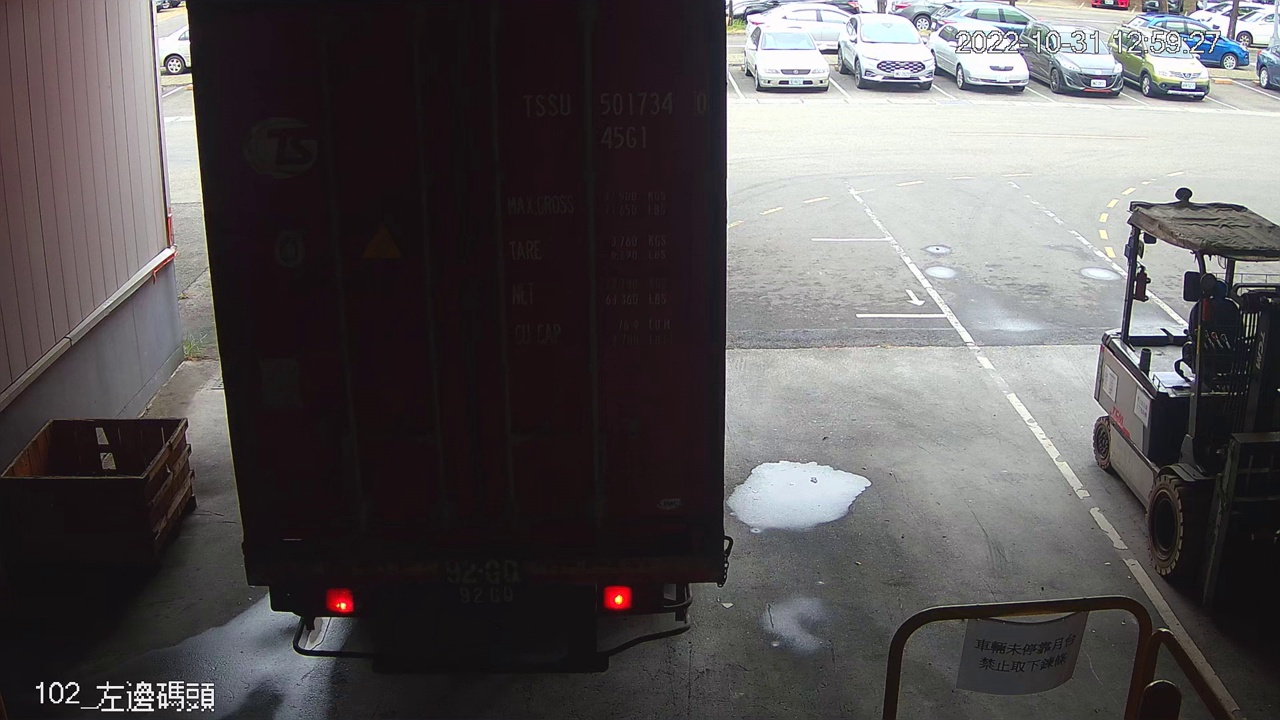container: (511, 81, 717, 158)
